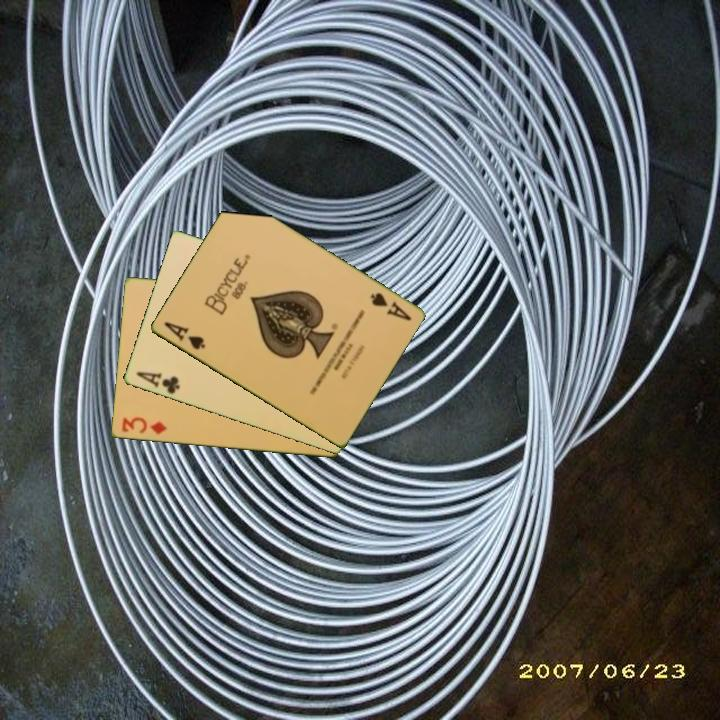3d: (118, 414, 169, 438)
Ac: (132, 368, 183, 397)
As: (160, 318, 208, 353), (366, 289, 414, 324)
